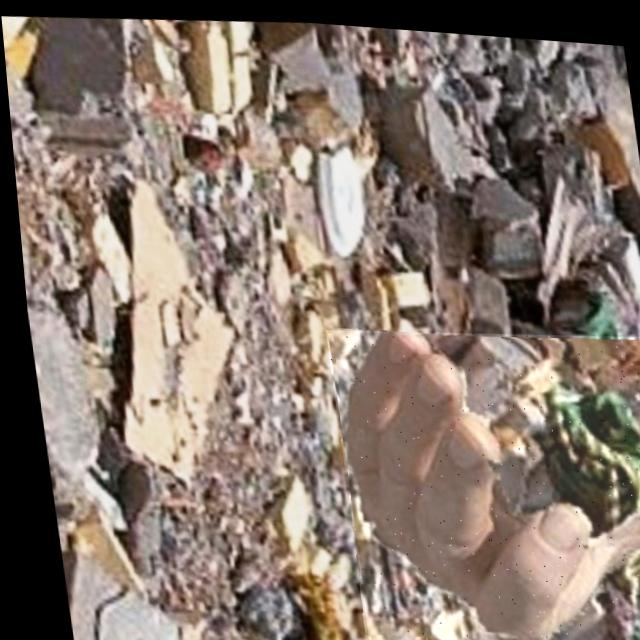Person in Rubble: (318, 309, 640, 640)
